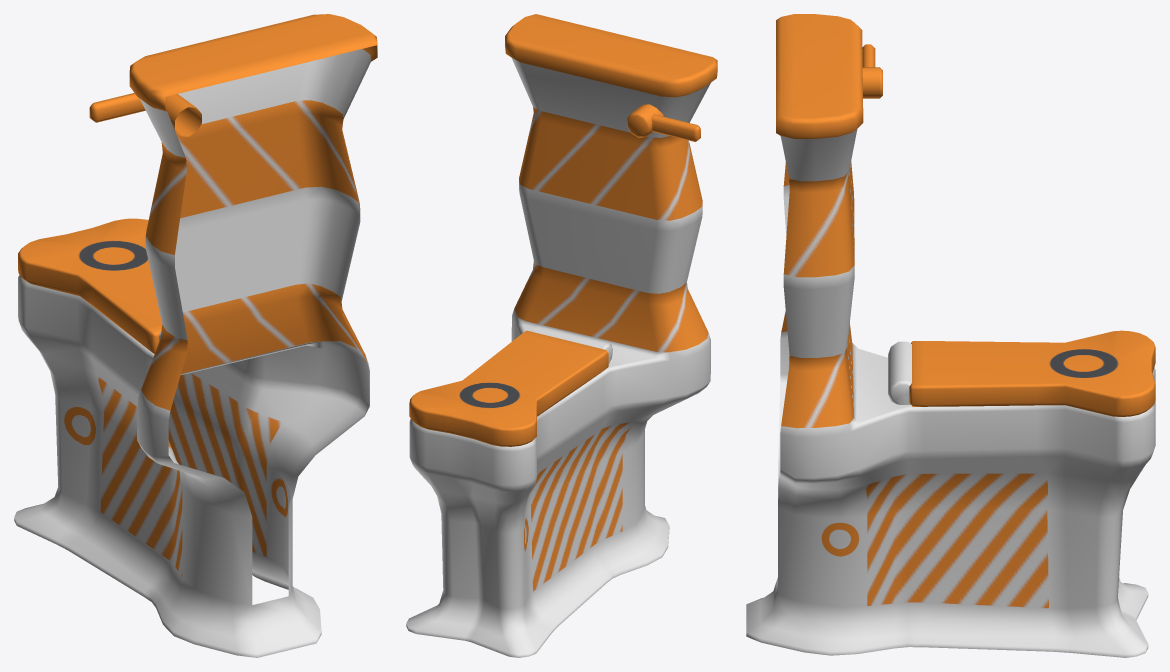
The model's file is Mesh_Resto_toilette.fbx.
The picture shows the model from 3 angles, left to right: view 1: azimuth 30°, elevation 25°; view 2: azimuth 150°, elevation 25°; view 3: azimuth 270°, elevation 25°; orthographic projection. The views are drawn at different scales.
Visible parts, largest first — view 1: toilette; view 2: toilette; view 3: toilette.
Boxes of the visible parts, x1,y1,x2,y2 form: toilette: [14, 14, 377, 657]; toilette: [406, 14, 717, 657]; toilette: [746, 14, 1155, 657].
Size of the model in its own units: 28.79 by 63.85 by 42.55.
